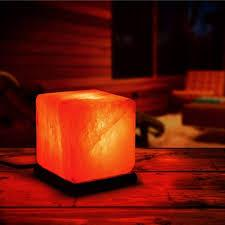cube: (35, 90, 135, 184)
